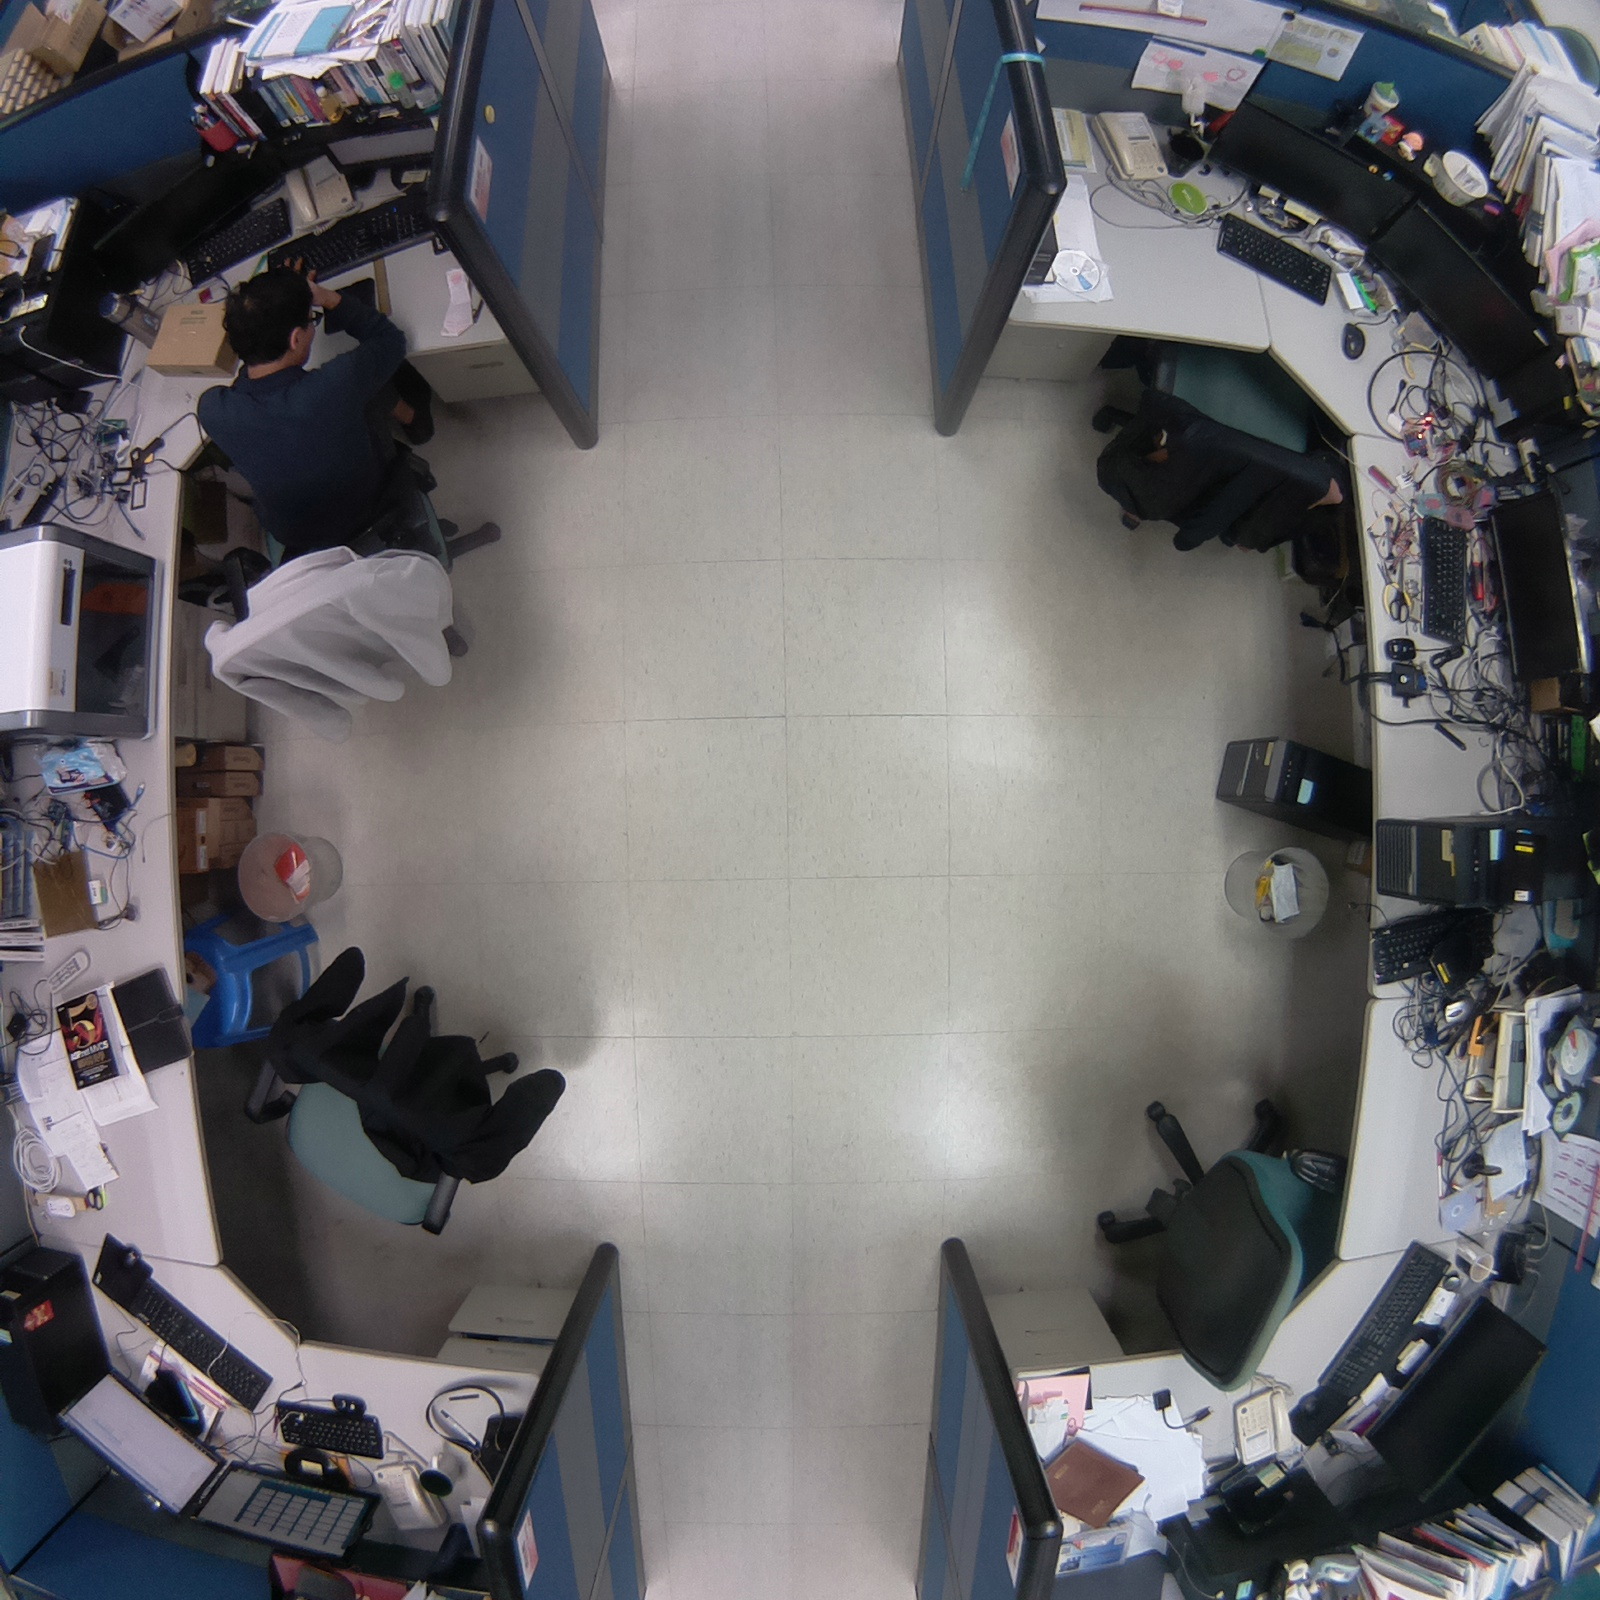chair: (217, 924, 601, 1247), (1065, 1073, 1347, 1404), (1070, 311, 1355, 583)
head: (215, 261, 321, 374)
sitting: (186, 258, 529, 742)
